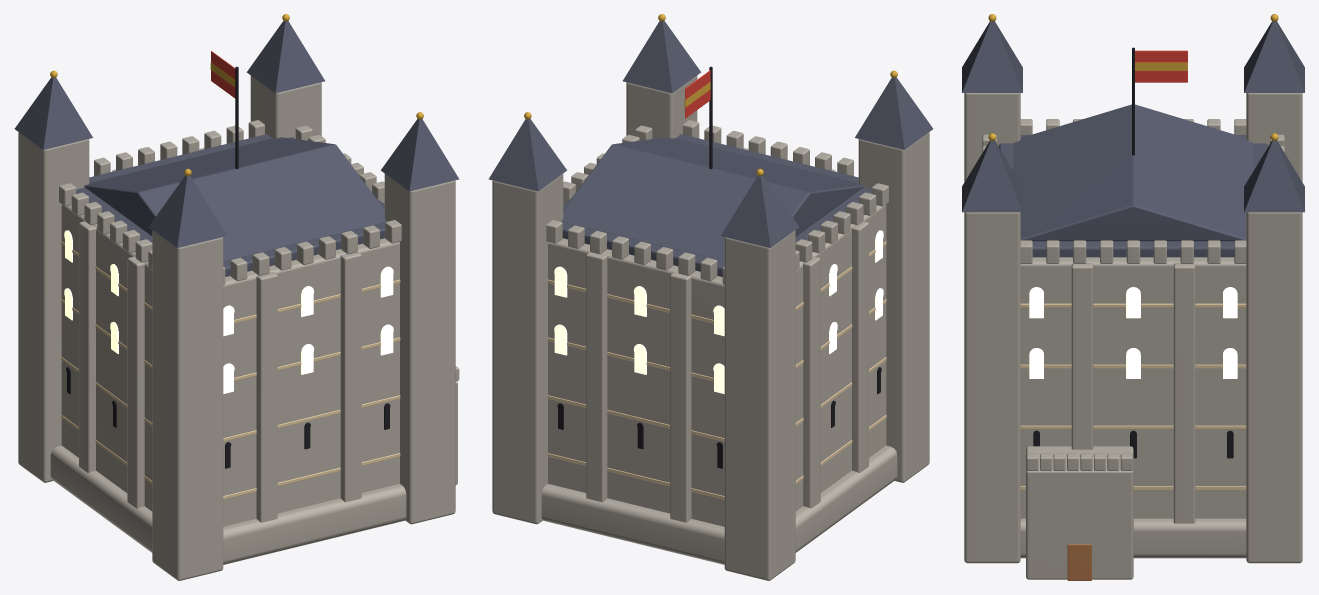
File: castle_keep.glb
The picture shows the model from 3 angles, left to right: view 1: azimuth 30°, elevation 25°; view 2: azimuth 150°, elevation 25°; view 3: azimuth 270°, elevation 25°; orthographic projection. The views are drawn at different scales.
Parts seen in each view (by area): view 1: castle_keep; view 2: castle_keep; view 3: castle_keep.
Boxes of the visible parts, x1,y1,x2,y2 form: castle_keep: [14, 14, 459, 580]; castle_keep: [488, 14, 933, 580]; castle_keep: [962, 14, 1304, 580].
Bounding box in the file's own units: 28.34 × 36.5 × 25.52.
1 material, 1 textured.
